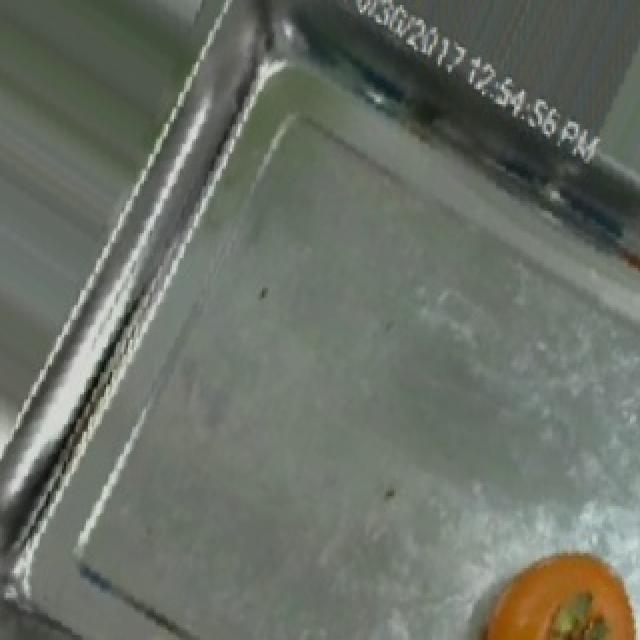Fruit: (466, 533, 640, 640)
